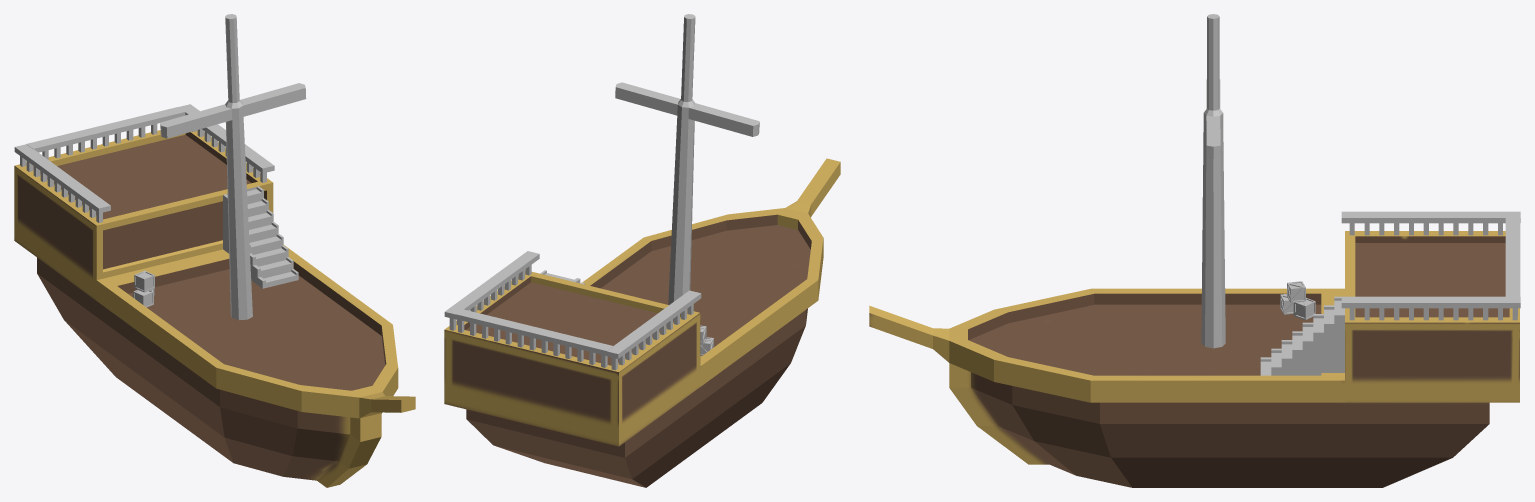
The model's file is PirateShipArena2.fbx.
3 renders of one model, left to right at view 1: azimuth 30°, elevation 25°; view 2: azimuth 150°, elevation 25°; view 3: azimuth 270°, elevation 25°, orthographic. The views are drawn at different scales.
Parts seen in each view (by area): view 1: Cube, Cube.002; view 2: Cube, Cube.002; view 3: Cube, Cube.002.
Boxes of the visible parts, x1,y1,x2,y2 form: Cube: [14, 130, 415, 487]; Cube.002: [14, 14, 306, 320]; Cube: [444, 158, 840, 487]; Cube.002: [444, 14, 759, 370]; Cube: [869, 231, 1519, 487]; Cube.002: [1201, 14, 1520, 375].
Size of the model in its own units: 966 by 2144 by 2896.
